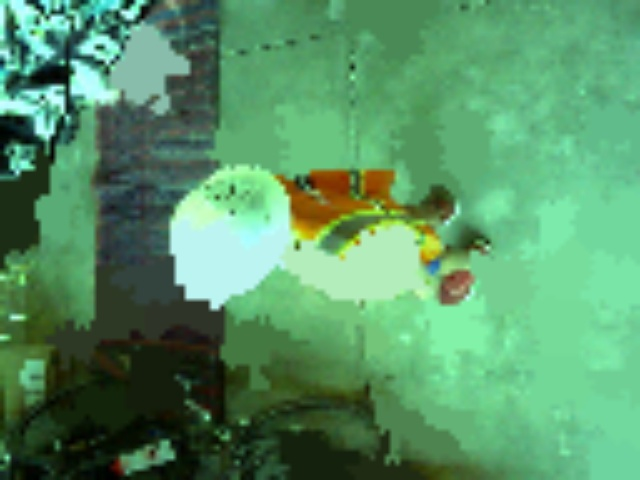two: (203, 182, 250, 213)
